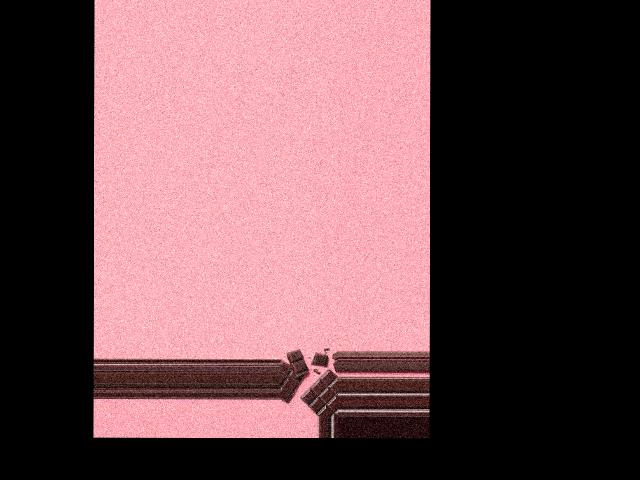chocolate: (283, 353, 338, 417)
